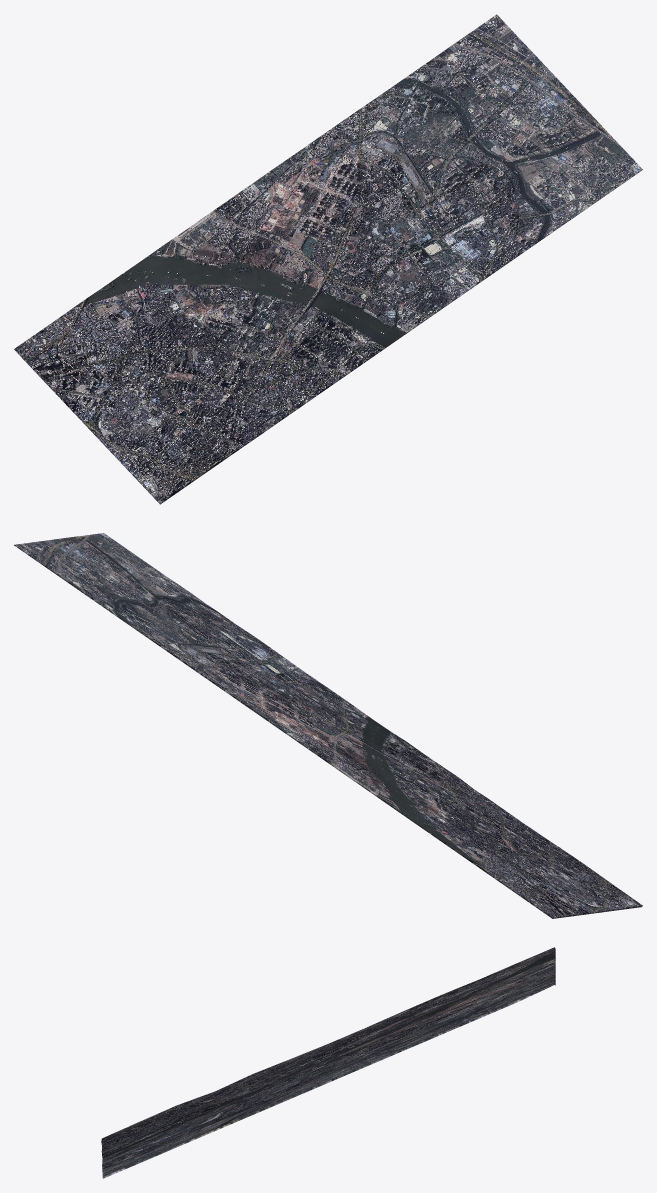
3 renders of one model, top to bottom at view 1: azimuth 30°, elevation 25°; view 2: azimuth 150°, elevation 25°; view 3: azimuth 270°, elevation 25°, orthographic. The views are drawn at different scales.
Visible parts, largest first — view 1: 4_1_0; view 2: 4_1_0; view 3: 4_1_0.
Part boxes in pixels (box(x1,y1,x2,y2)): 4_1_0: box(14, 14, 642, 504); 4_1_0: box(14, 533, 642, 918); 4_1_0: box(101, 947, 555, 1178).
Bounding box in the file's own units: 8844 × 4878 × 3371.
Materials: 1 (1 with a texture image).
